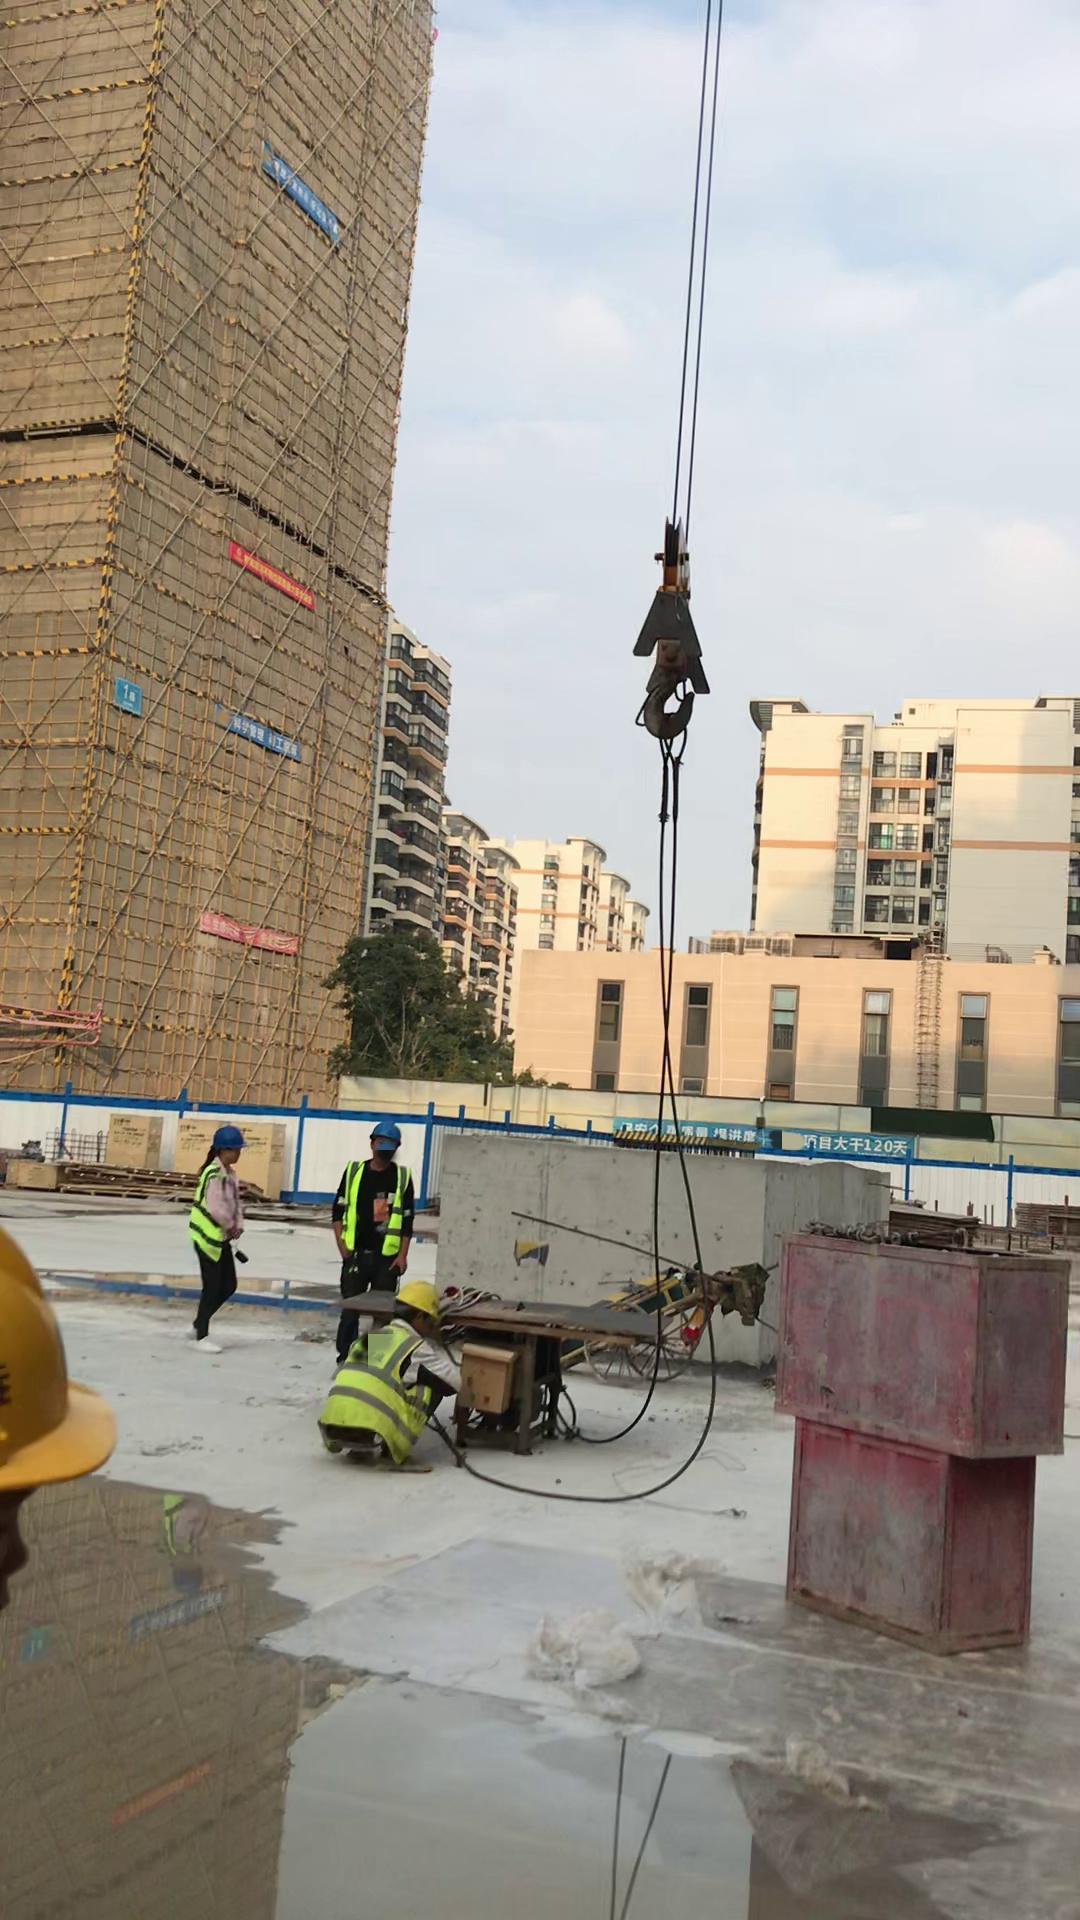cutter: (364, 1269, 673, 1457)
helmet: (1, 1223, 134, 1489), (395, 1276, 443, 1324), (212, 1121, 245, 1149), (368, 1124, 404, 1145)
hook: (616, 535, 724, 778)
person: (313, 1282, 465, 1477), (1, 1203, 54, 1627), (329, 1123, 417, 1360), (178, 1123, 251, 1351)
slogan: (226, 542, 327, 606), (268, 160, 343, 245), (615, 1119, 771, 1156), (228, 713, 308, 762), (203, 913, 295, 955)
vest: (321, 1328, 437, 1452), (343, 1158, 407, 1265), (189, 1155, 233, 1256)
